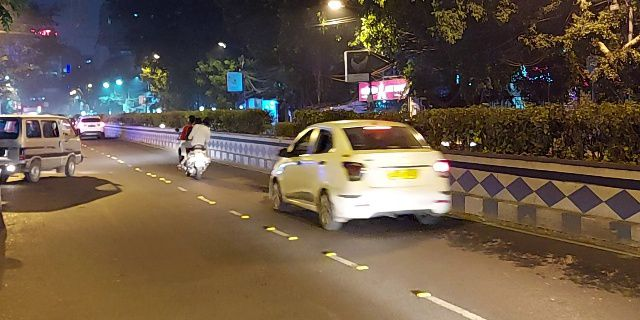Car: (290, 118, 454, 225)
Motorbike: (173, 106, 217, 180)
Van: (4, 112, 86, 180)
